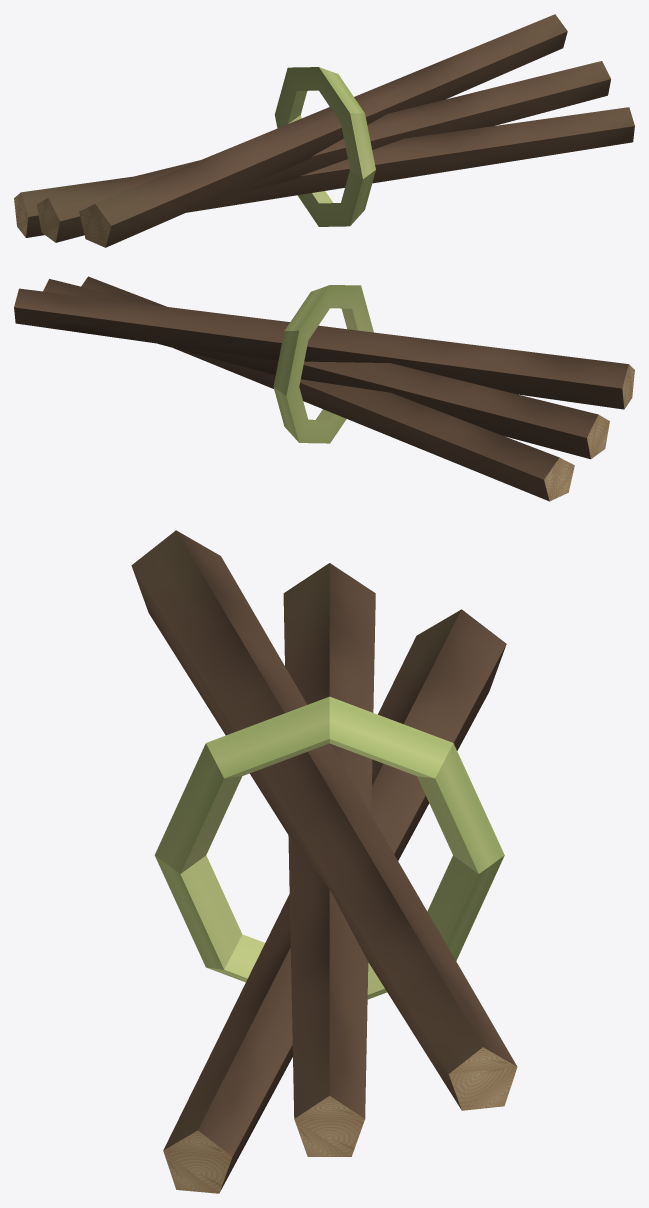
File: SM_Pickup_Stick.fbx
3 renders of one model, top to bottom at view 1: azimuth 30°, elevation 25°; view 2: azimuth 150°, elevation 25°; view 3: azimuth 270°, elevation 25°, orthographic. The views are drawn at different scales.
Parts seen in each view (by area): view 1: SM_Pickup_Stick; view 2: SM_Pickup_Stick; view 3: SM_Pickup_Stick.
Part boxes in pixels (x1=…): SM_Pickup_Stick: x1=14, y1=14, x2=634, y2=247; SM_Pickup_Stick: x1=14, y1=276, x2=634, y2=501; SM_Pickup_Stick: x1=131, y1=530, x2=517, y2=1193.
Bounding box in the file's own units: 1.7 × 0.4693 × 0.5174.
1 material, 1 textured.
